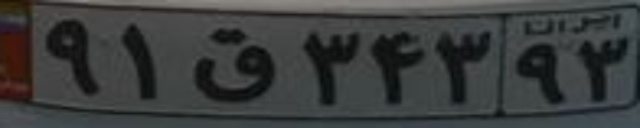1: (117, 23, 160, 99)
3: (295, 30, 362, 106), (435, 30, 489, 103), (577, 36, 632, 102)
4: (369, 31, 428, 105)
9: (40, 18, 100, 96), (508, 41, 569, 104)
ghaf: (190, 28, 277, 101)
